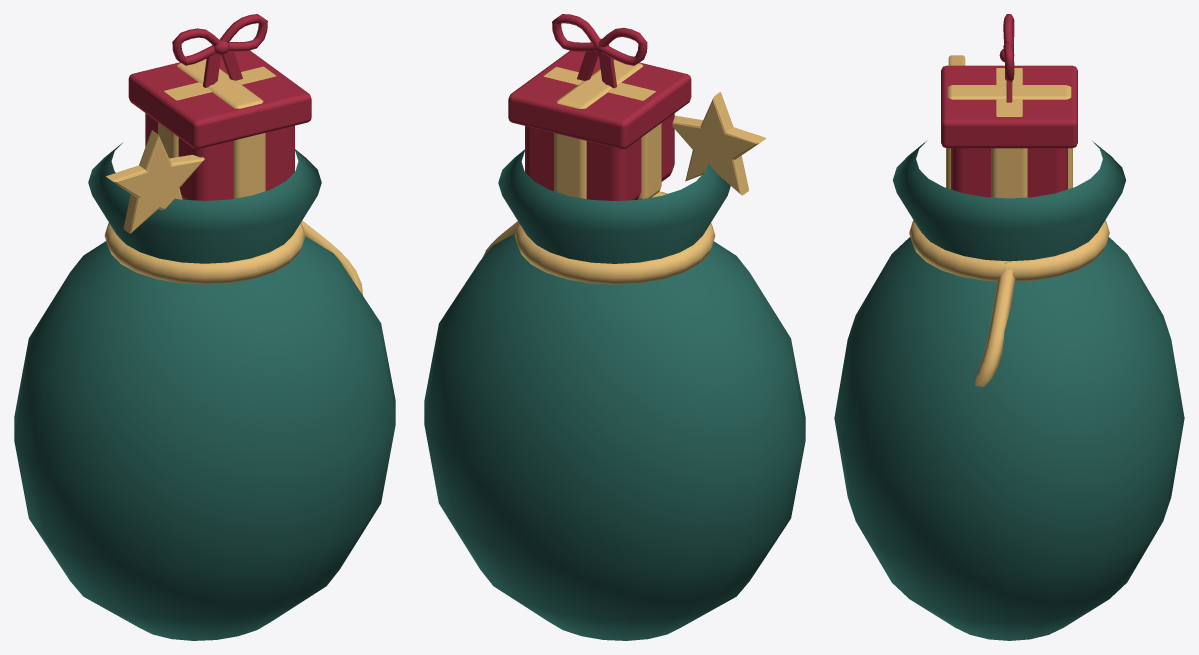
The model's file is giftsack.glb.
The picture shows the model from 3 angles, left to right: view 1: azimuth 30°, elevation 25°; view 2: azimuth 150°, elevation 25°; view 3: azimuth 270°, elevation 25°; orthographic projection.
Parts seen in each view (by area): view 1: pine, berry, brass; view 2: pine, berry, brass; view 3: pine, berry, brass.
Part boxes in pixels (left/top/right/bottom): pine: left=14, top=142, right=395, bottom=640; berry: left=128, top=14, right=311, bottom=200; brass: left=104, top=59, right=363, bottom=295; pine: left=424, top=149, right=805, bottom=640; berry: left=508, top=14, right=691, bottom=200; brass: left=482, top=59, right=766, bottom=284; pine: left=834, top=141, right=1184, bottom=640; berry: left=941, top=14, right=1077, bottom=197; brass: left=909, top=55, right=1109, bottom=387.
Bounding box in the file's own units: 0.68 × 1.13 × 0.6.
